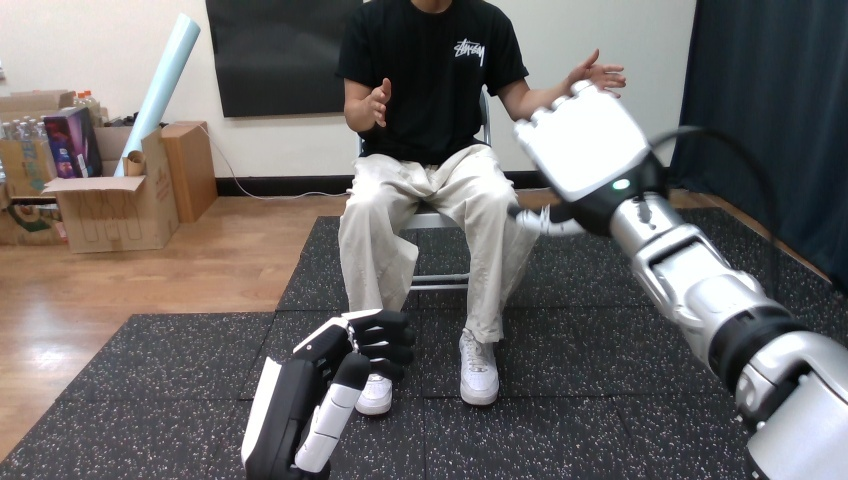left robot hand: (514, 81, 847, 478), (241, 309, 414, 479)
